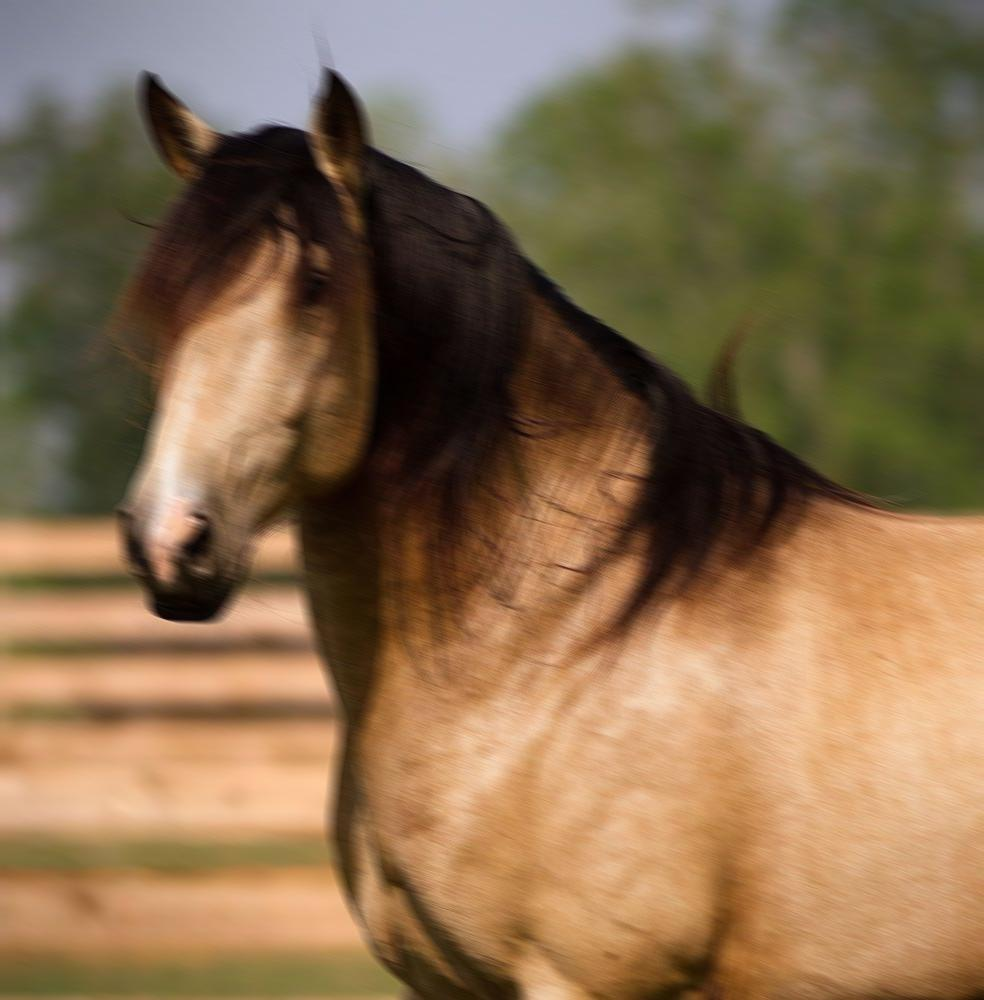horse: (81, 24, 984, 998)
